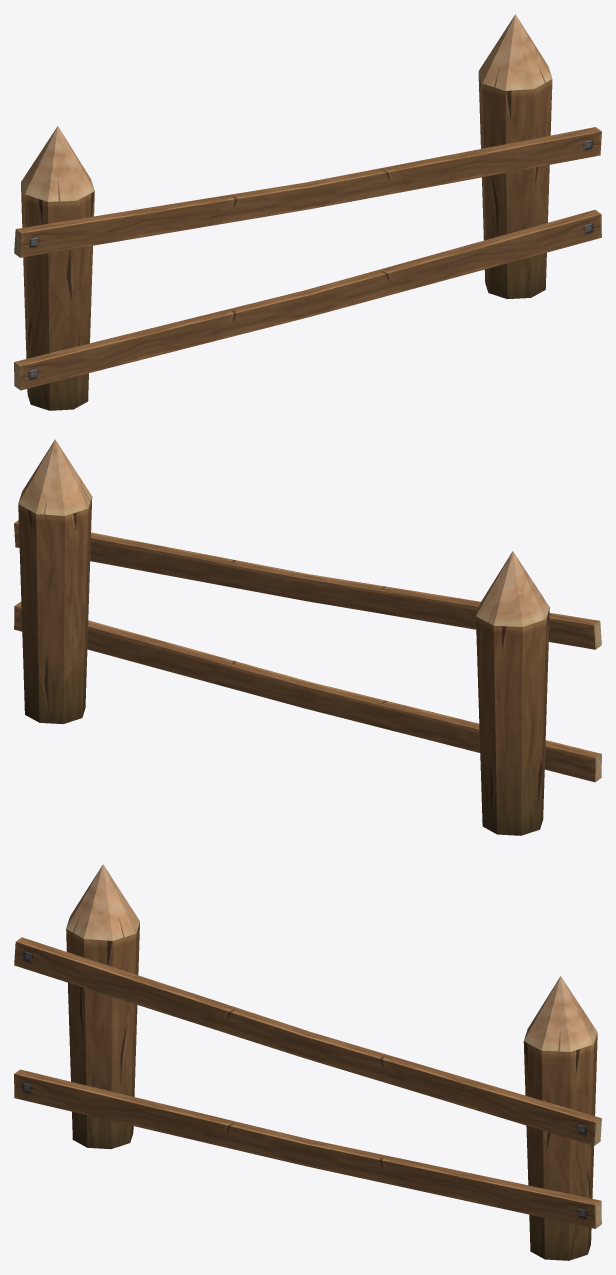
Rendered from wooden_fence_26.fbx.
3 renders of one model, top to bottom at view 1: azimuth 30°, elevation 25°; view 2: azimuth 150°, elevation 25°; view 3: azimuth 330°, elevation 25°, orthographic.
Parts seen in each view (by area): view 1: wooden_fence_26:Mesh; view 2: wooden_fence_26:Mesh; view 3: wooden_fence_26:Mesh.
Part boxes in pixels (box(x1,y1,x2,y2)): wooden_fence_26:Mesh: box(14, 14, 601, 410); wooden_fence_26:Mesh: box(14, 439, 601, 835); wooden_fence_26:Mesh: box(14, 864, 601, 1260).
Bounding box in the file's own units: 8.09 × 3.62 × 1.08.
